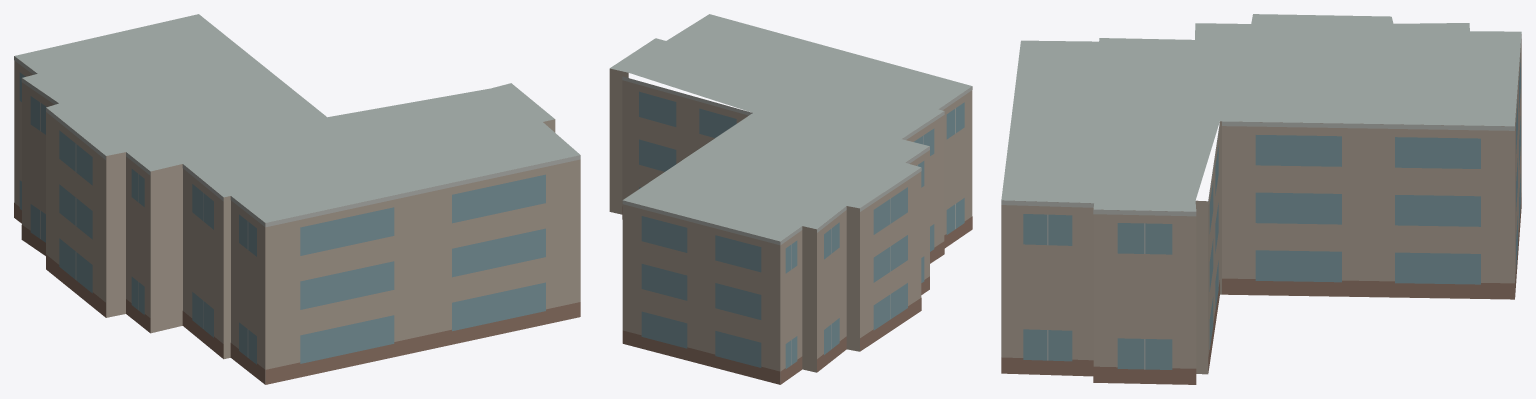
Rendered from survey-upis-32862961.glb.
3 views of the same model, side by side, from view 1: azimuth 30°, elevation 25°; view 2: azimuth 150°, elevation 25°; view 3: azimuth 270°, elevation 25° (orthographic). The views are drawn at different scales.
Parts seen in each view (by area): view 1: survey-upis-32862961.tmp; view 2: survey-upis-32862961.tmp; view 3: survey-upis-32862961.tmp.
Part boxes in pixels (bbox=[...]): survey-upis-32862961.tmp: bbox=[14, 14, 580, 384]; survey-upis-32862961.tmp: bbox=[609, 14, 972, 384]; survey-upis-32862961.tmp: bbox=[1001, 14, 1521, 384].
Size of the model in its own units: 22.41 by 9.15 by 24.93.
